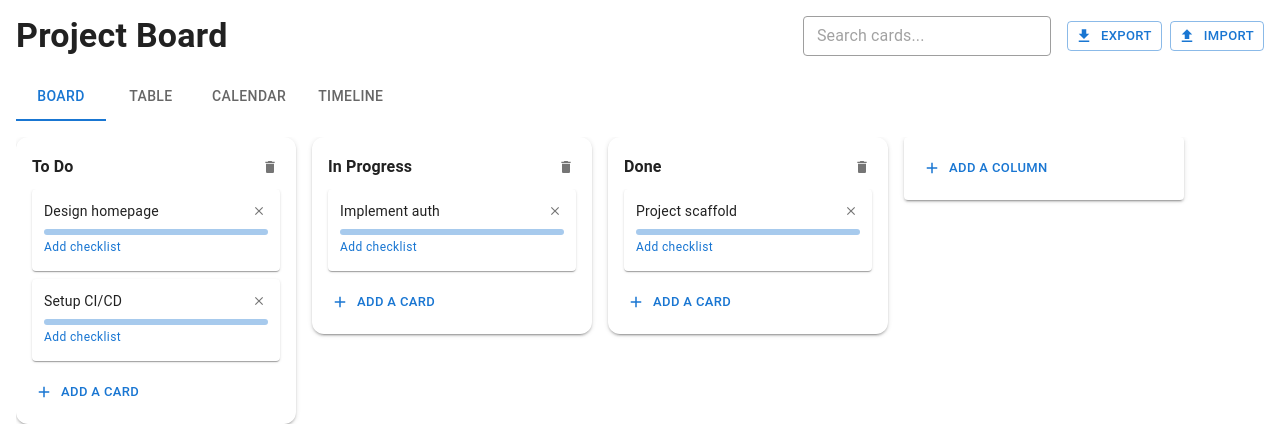
Test case: BoardPage › cancels card edit on Escape
Double-click the text "Design homepage": (101,211) x1=44 y1=203 x2=159 y2=219
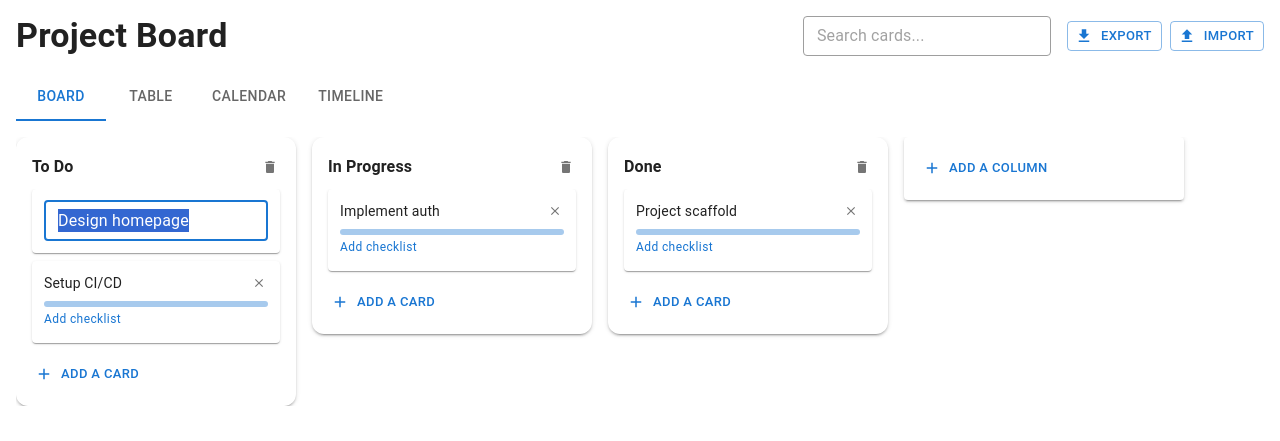
Replace the text in the field showing "Design homepage" with "Aborted Title": (156,221) x1=44 y1=201 x2=268 y2=241
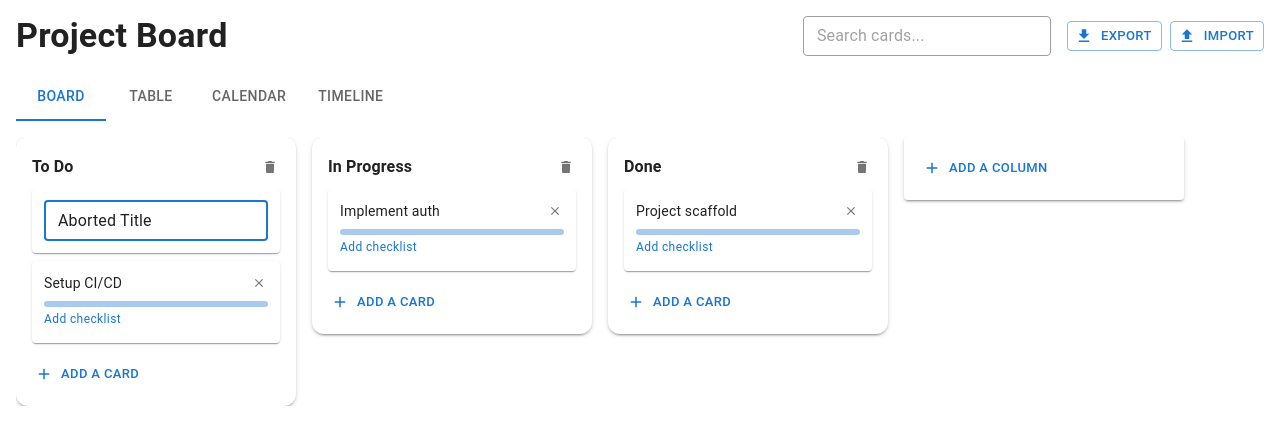
Press Escape in the field showing "Design homepage", box x1=44 y1=201 x2=268 y2=241
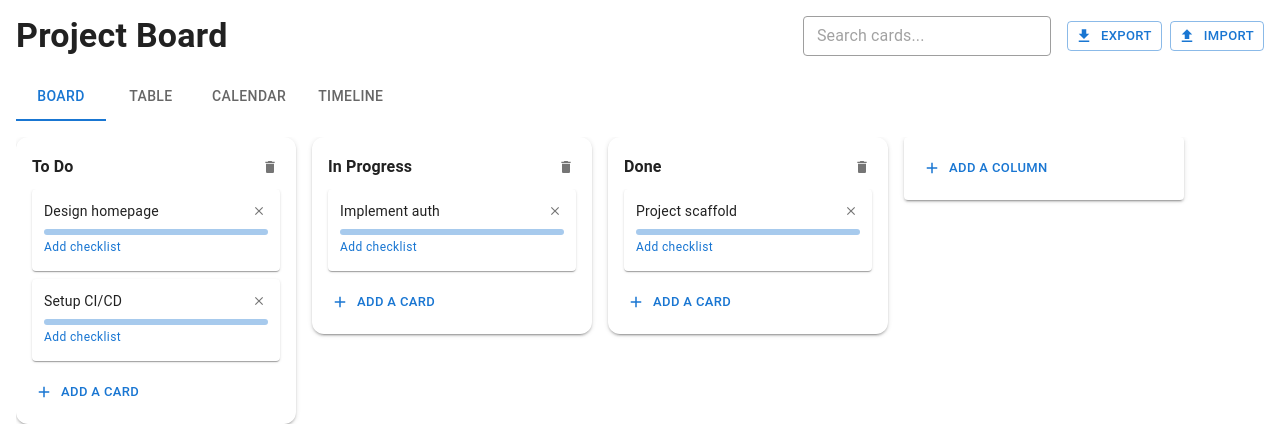
Check: the text "Aborted Title" is not shown
Check: the text "Design homepage" is shown, box x1=44 y1=203 x2=159 y2=219
